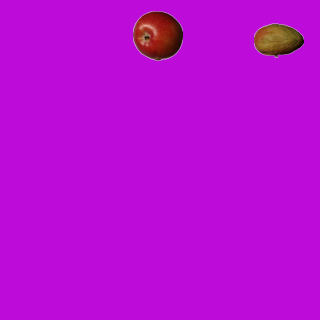Apple Braeburn: (132, 10, 182, 60)
Papaya: (253, 15, 303, 65)
